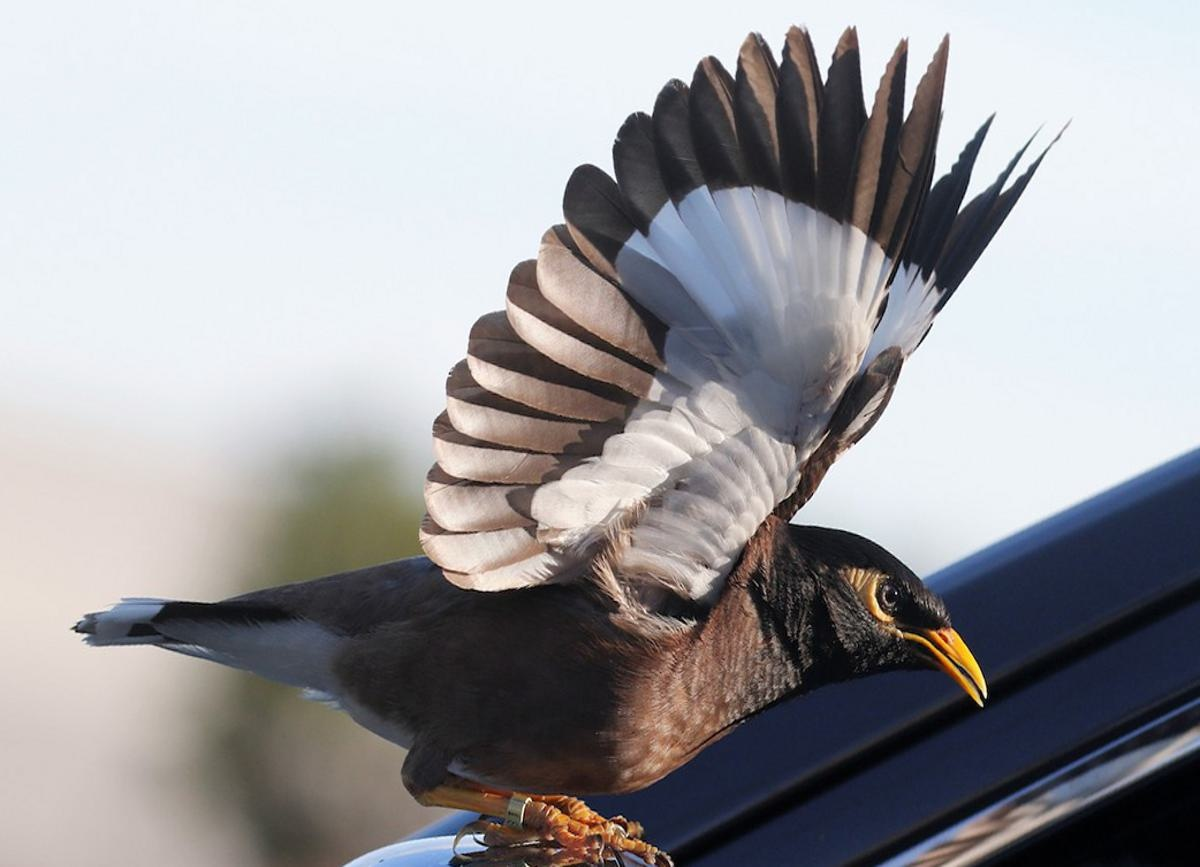myna: (176, 83, 1088, 867)
